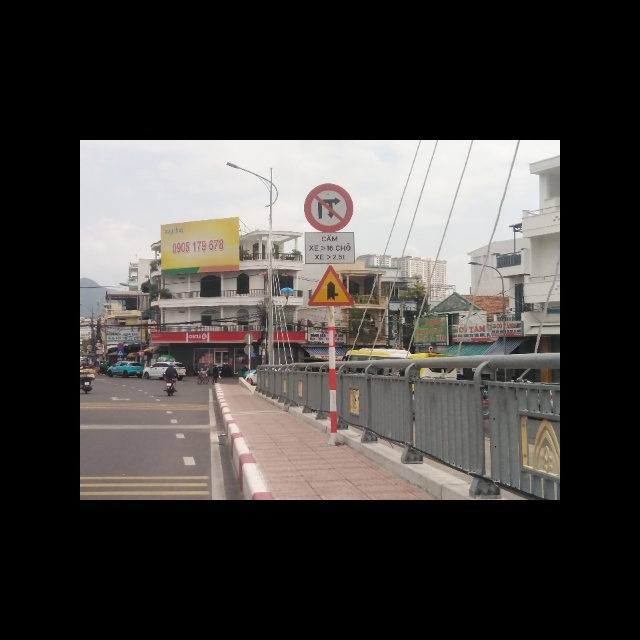Cấm quay đầu và rẽ phải: (303, 183, 352, 232)
Giao nhau với đường không ưu tiên: (306, 266, 355, 306)
